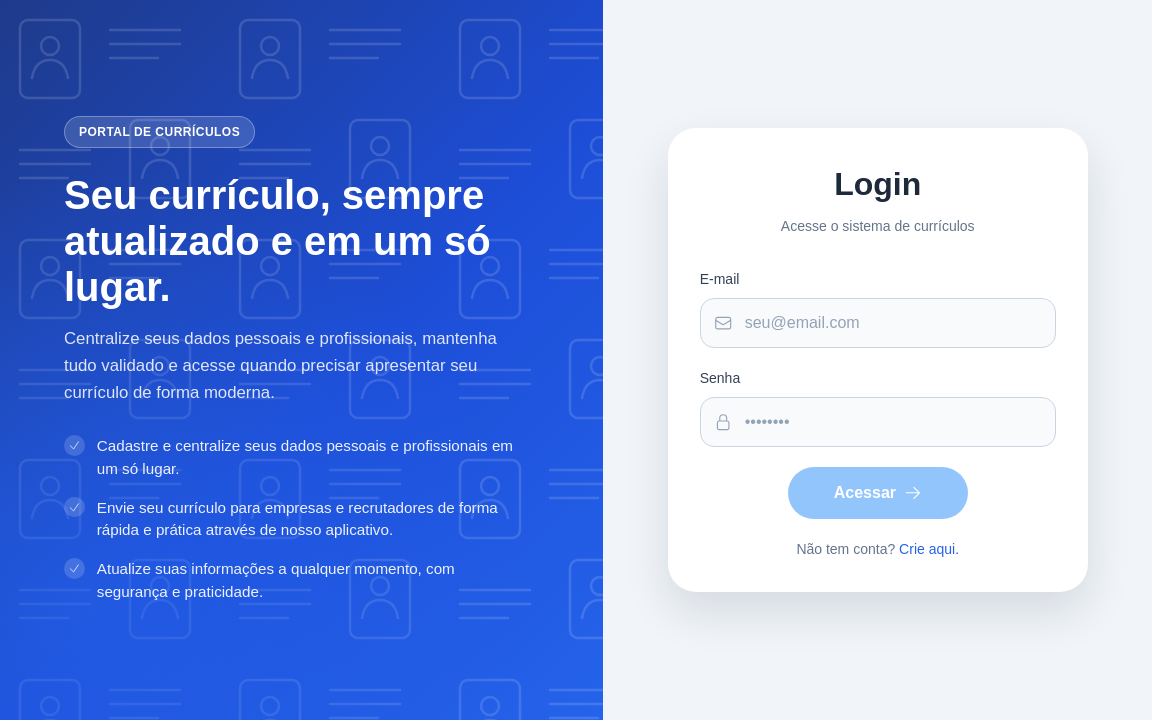
Test: LoginPage › shows an error message when login fails
Type "user@example.com" into the field labelled "E-mail".
click(878, 323); type("user@example.com")  # box [700,298,1056,348]
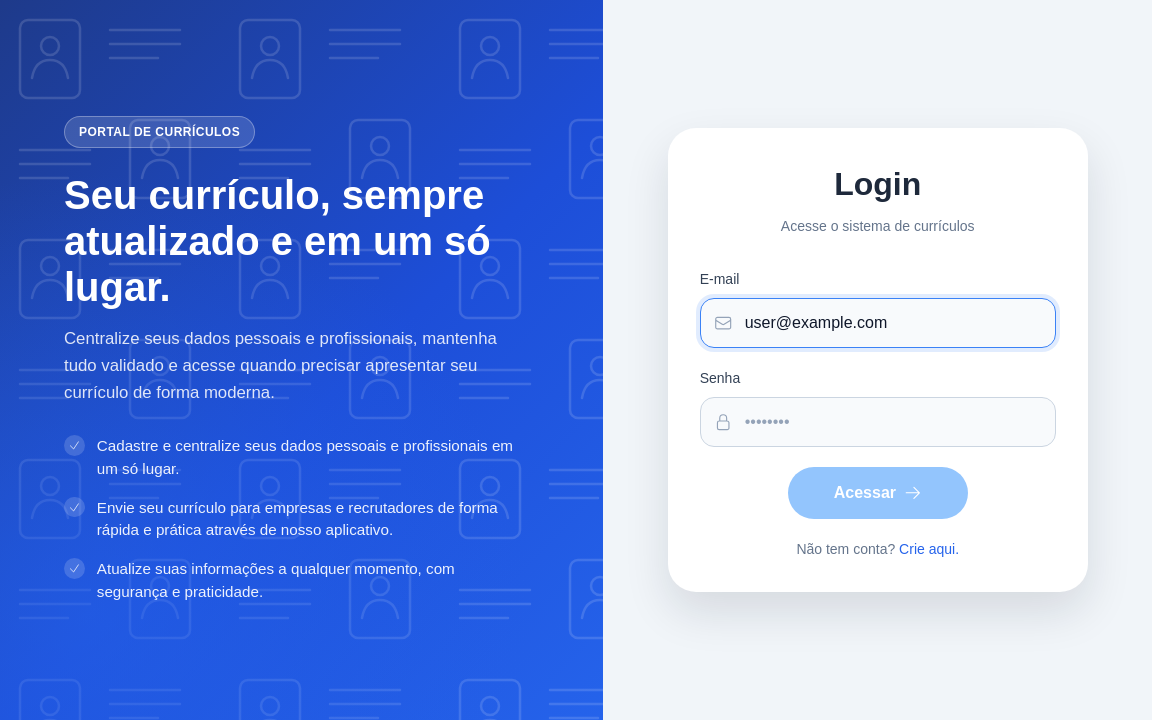
Type "wrong" into the password field labelled "Senha".
click(878, 422); type("wrong")  # box [700,397,1056,447]
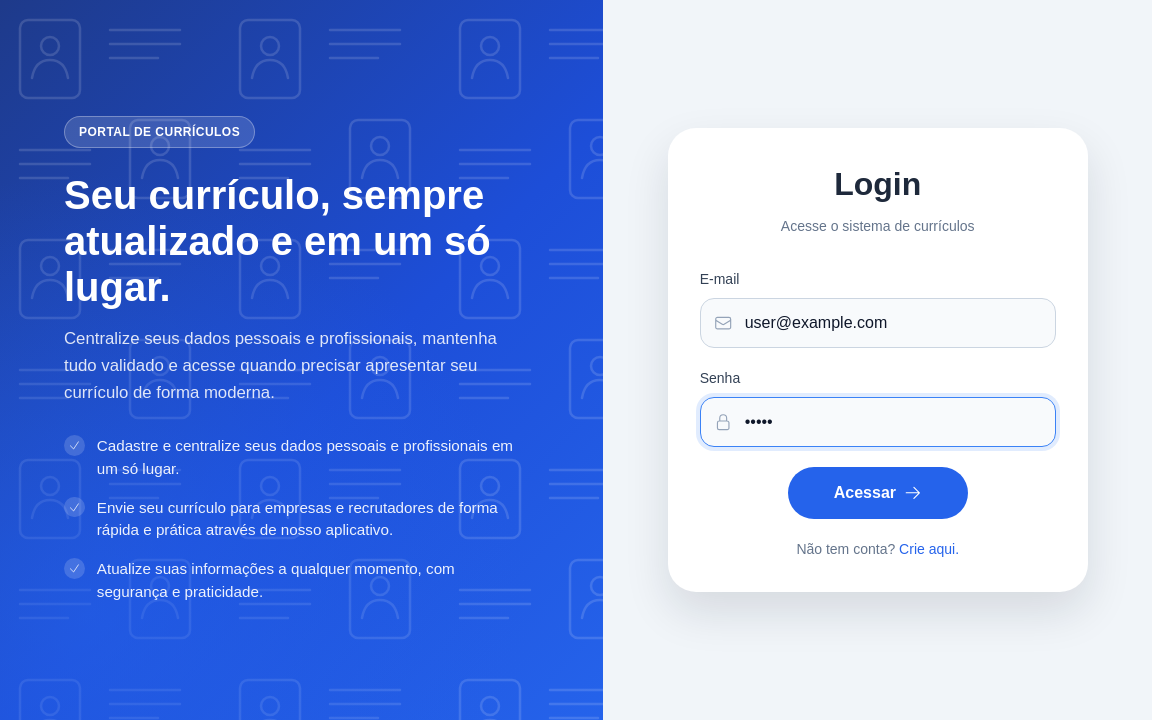
Click the button "Acessar".
click(878, 493)  # box [788,467,968,519]
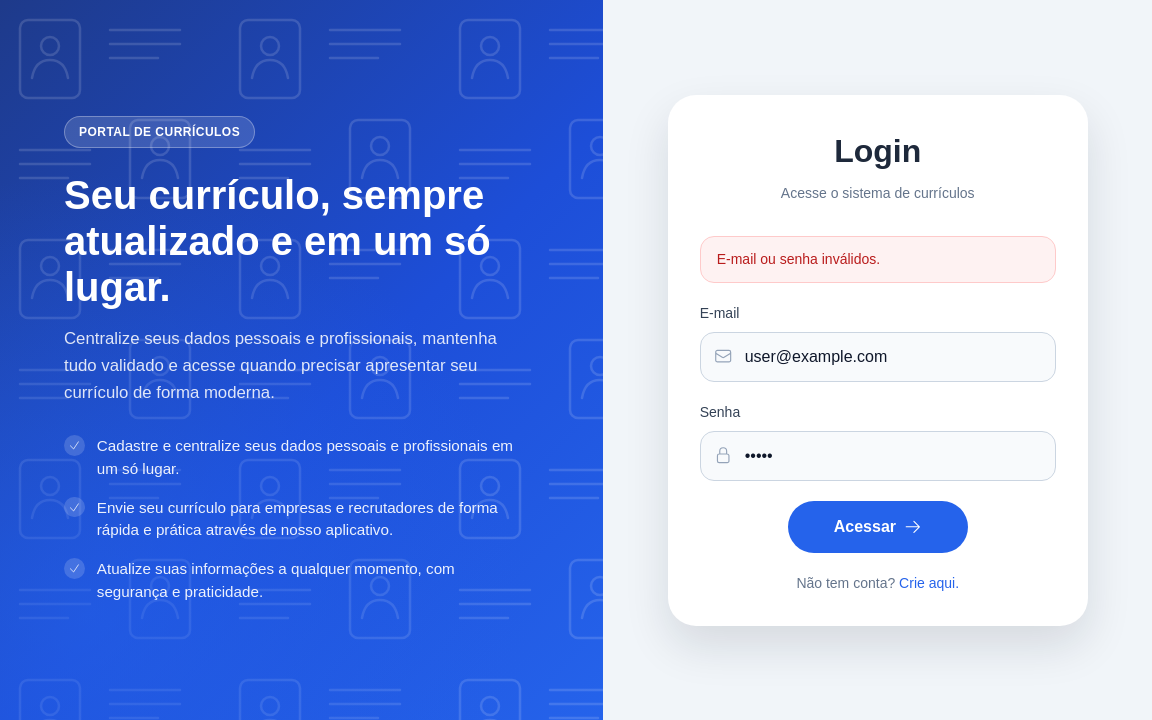
expect the text "E-mail ou senha inválidos." is shown: met, box [700,236,1056,282]
